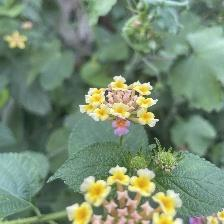common lanthana: (78, 74, 167, 135)
